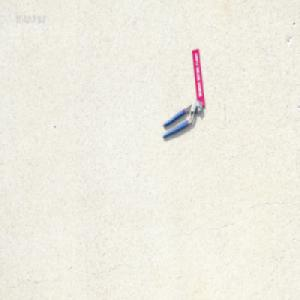Label: (192, 47, 205, 107)
Pliers: (161, 99, 202, 139)
